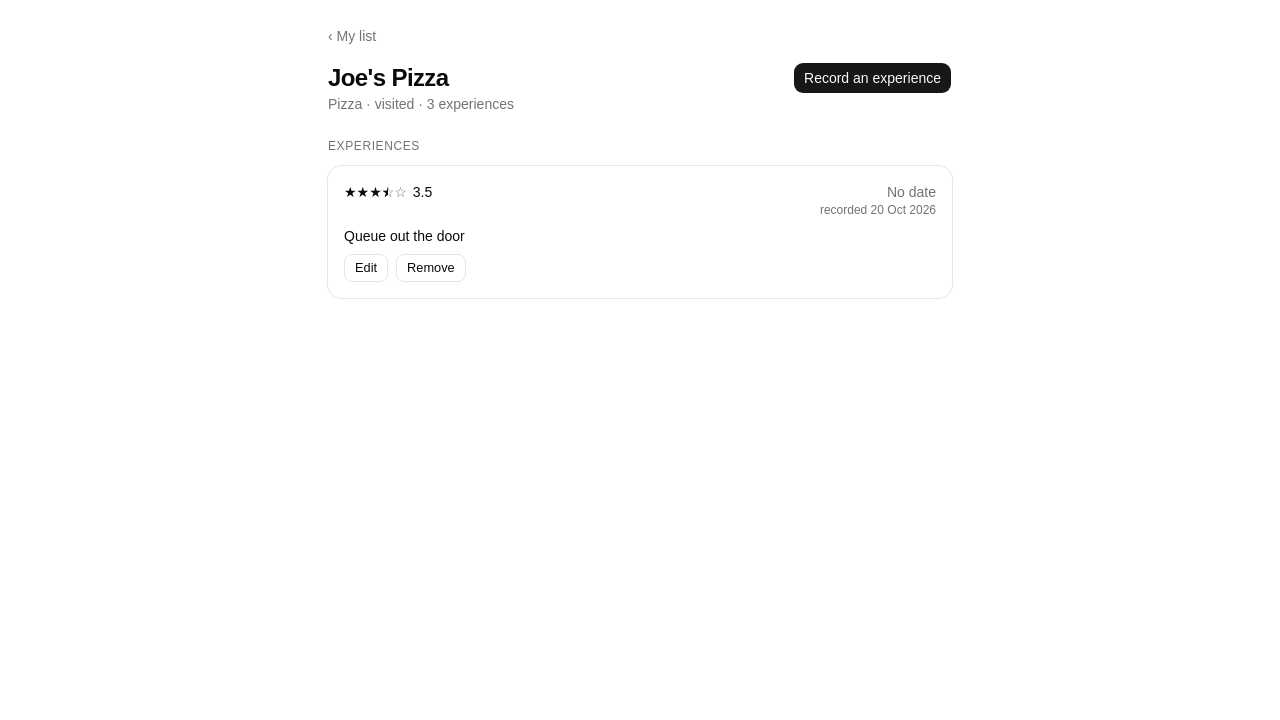
Scenario: removing an experience › acknowledging the confirmation › closes once the experience is gone
Click the button "Remove": (431, 268) [396, 254, 466, 282]
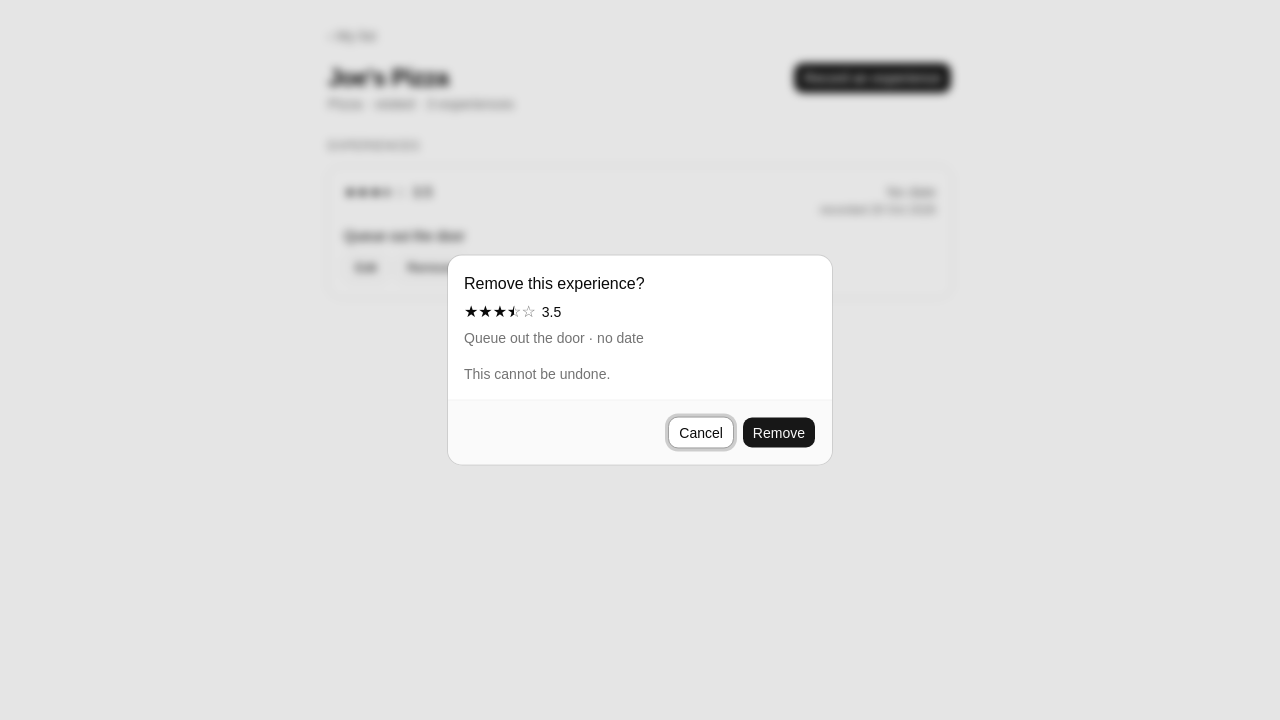
Now the heading "Remove this experience?" is shown, box [464, 272, 644, 296]
Click the button "Remove": (779, 432) [742, 416, 816, 448]
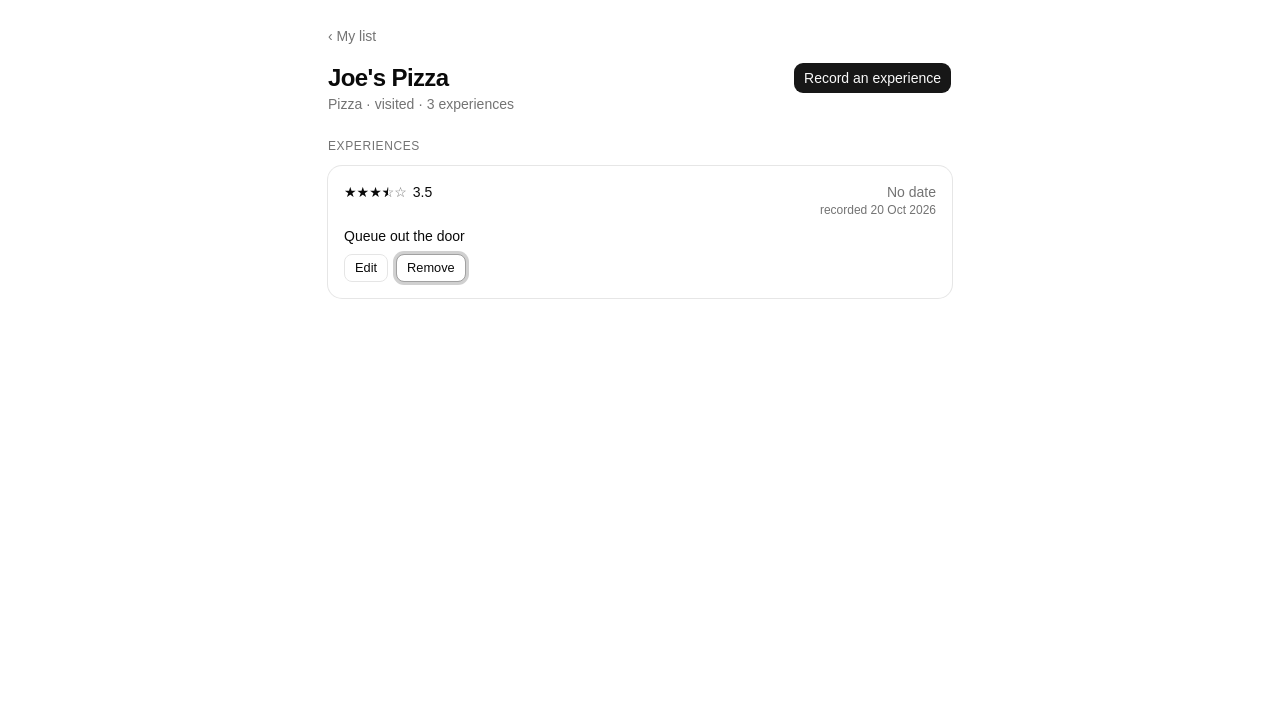
Now the dialog is gone
